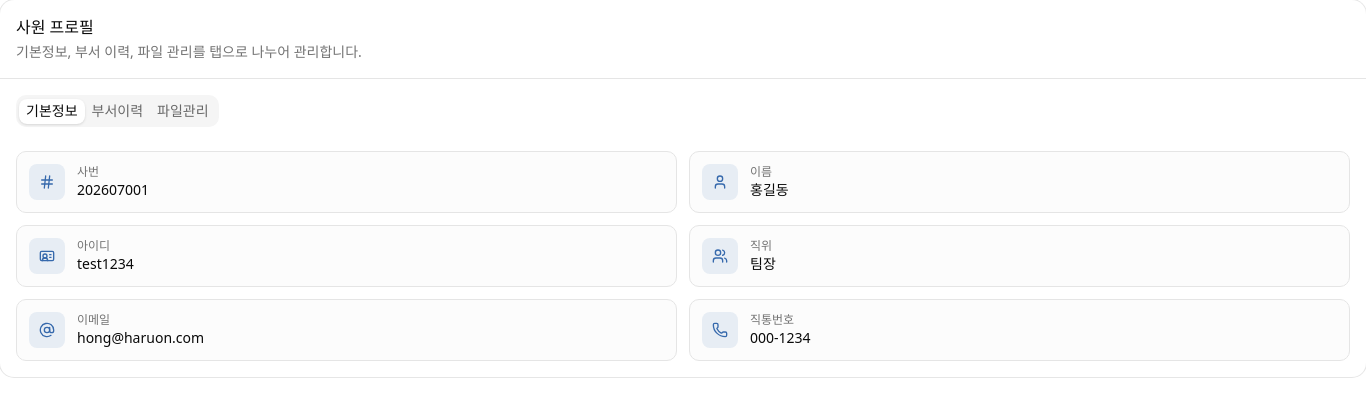
it: EmployeeProfileTabs - 부서이력 탭 › 종료된 부서 이력도 함께 렌더된다
This screenshot has width=1366, height=395.
Click the tab "부서이력".
click(117, 111)  # box [84,98,150,124]
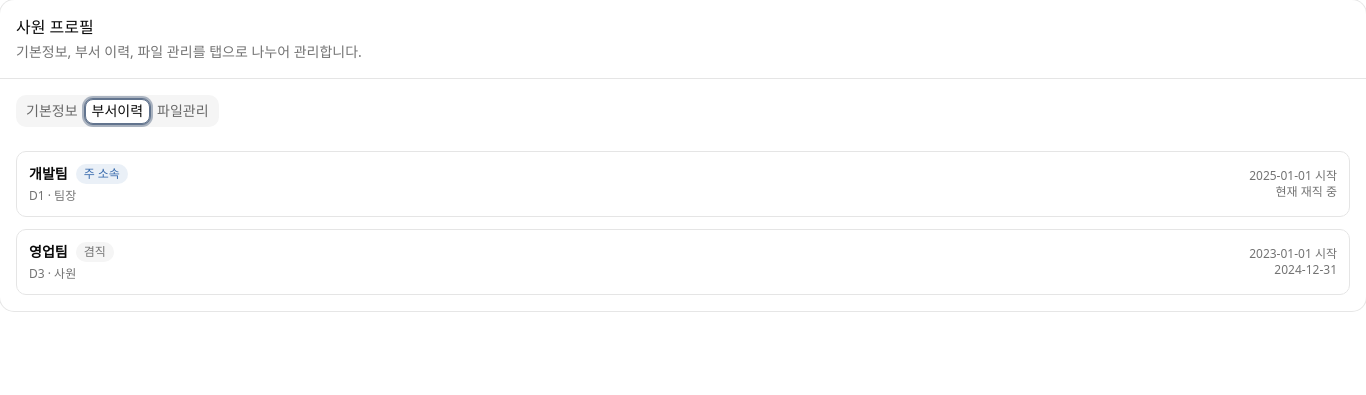
Expected: the heading "개발팀" is shown, [29,164,68,184]
Expected: the heading "영업팀" is shown, [29,242,68,262]
Expected: the text "2024-12-31" is shown, [1274,261,1337,278]
